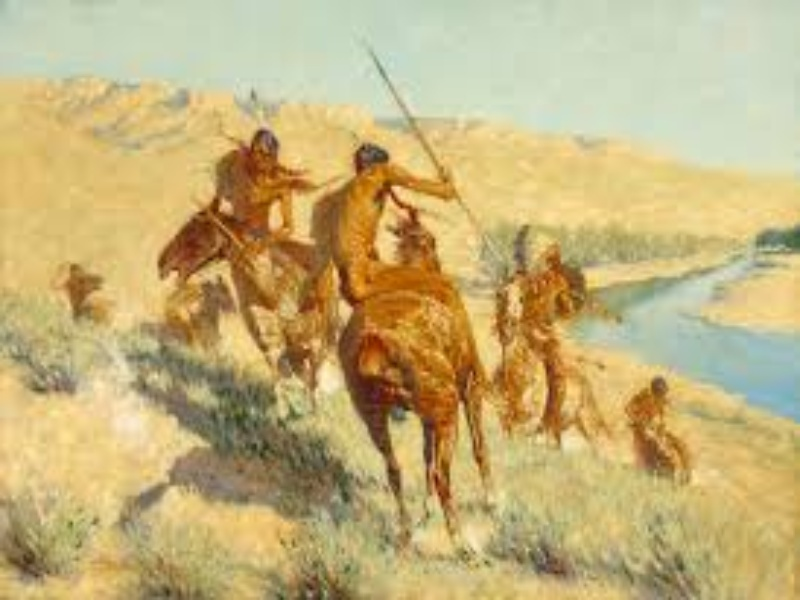buffalo: (336, 217, 500, 542)
